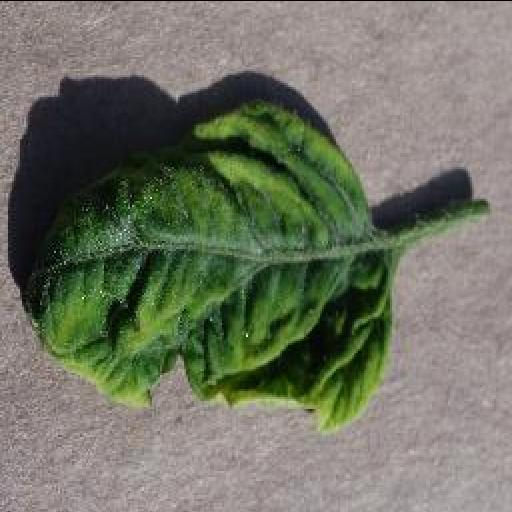disease_tomato: (22, 101, 396, 431)
